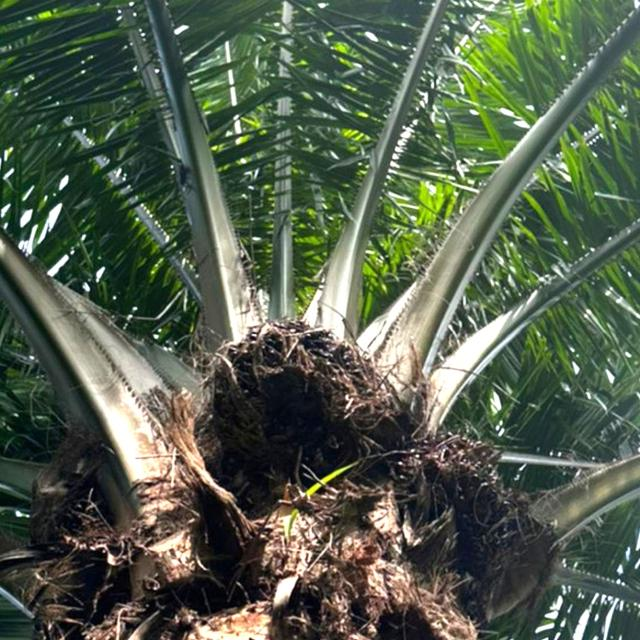unripe: (202, 314, 388, 497)
